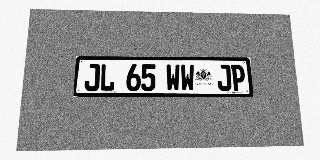5: (141, 64, 156, 91)
6: (126, 64, 141, 91)
J: (84, 64, 100, 91), (217, 64, 232, 91)
L: (100, 64, 115, 91)
P: (231, 65, 246, 91)
W: (180, 64, 195, 91), (166, 64, 180, 91)
